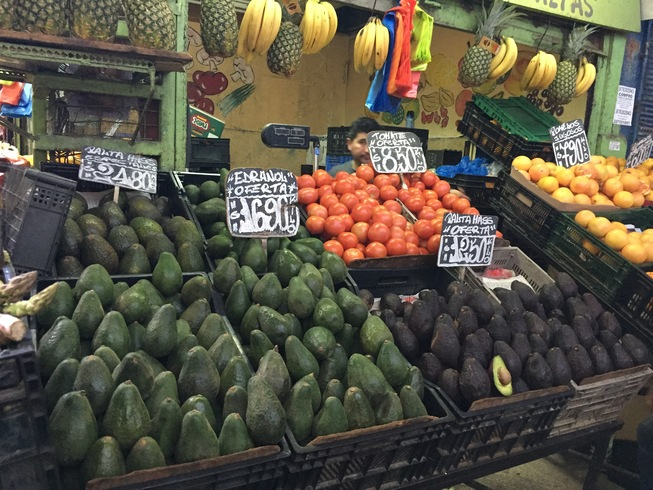precio: (222, 163, 315, 250), (75, 144, 166, 204), (441, 211, 505, 273), (366, 131, 431, 181), (550, 118, 595, 173), (626, 136, 653, 173)
